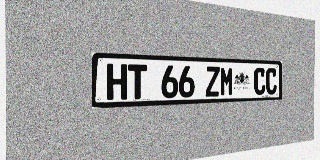6: (161, 65, 178, 98), (179, 66, 195, 98)
C: (254, 68, 265, 95), (266, 68, 277, 95)
H: (107, 64, 127, 100)
M: (220, 67, 234, 96)
T: (128, 64, 147, 99)
Z: (205, 66, 220, 97)
